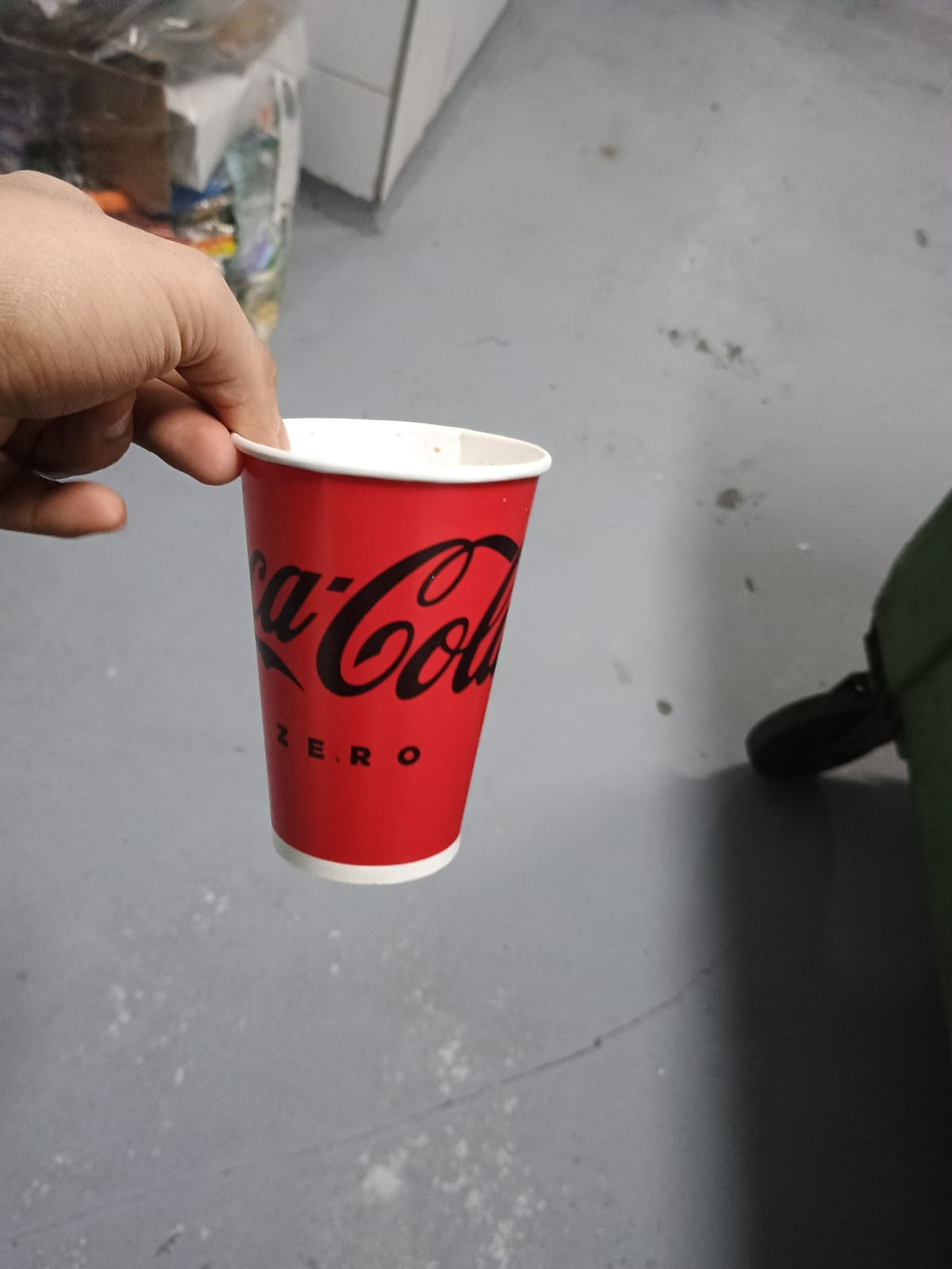Carton: (225, 414, 552, 887)
